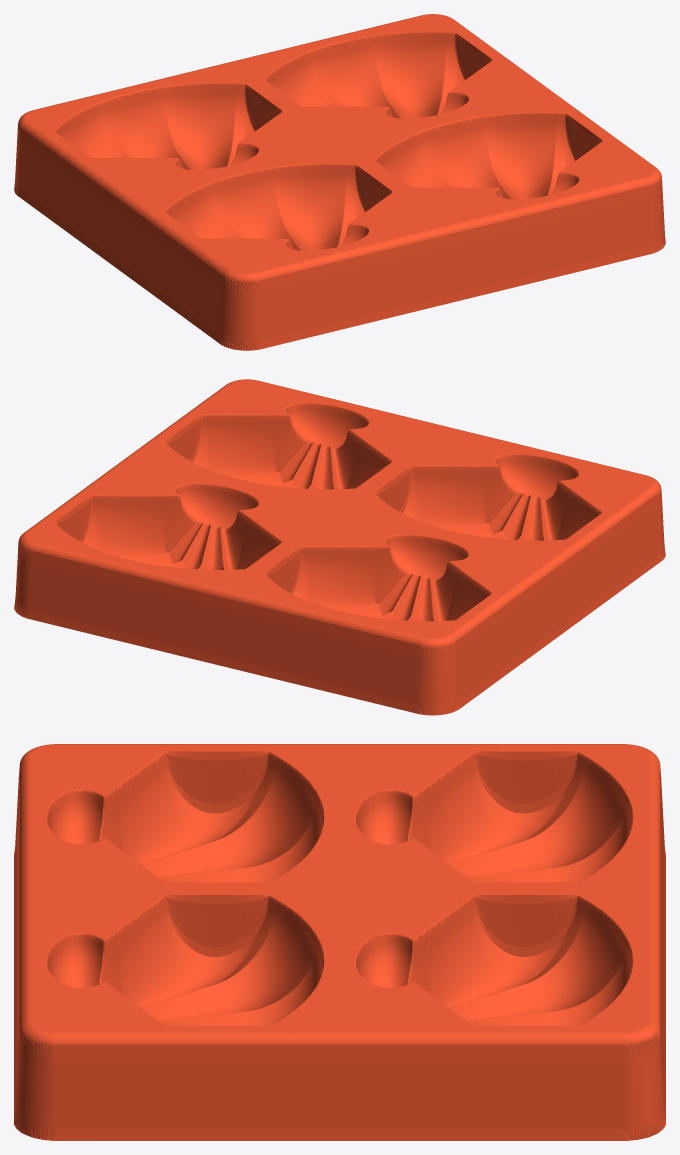
File: mold.glb
3 views of the same model, one above another, from view 1: azimuth 30°, elevation 25°; view 2: azimuth 150°, elevation 25°; view 3: azimuth 270°, elevation 25° (orthographic). The views are drawn at different scales.
Visible parts, largest first — view 1: geometry_0; view 2: geometry_0; view 3: geometry_0.
Boxes of the visible parts, x1=… form: geometry_0: x1=14, y1=14, x2=665, y2=350; geometry_0: x1=14, y1=379, x2=665, y2=715; geometry_0: x1=14, y1=744, x2=665, y2=1140.
Size of the model in its own units: 0.1503 by 0.0235 by 0.1373.
